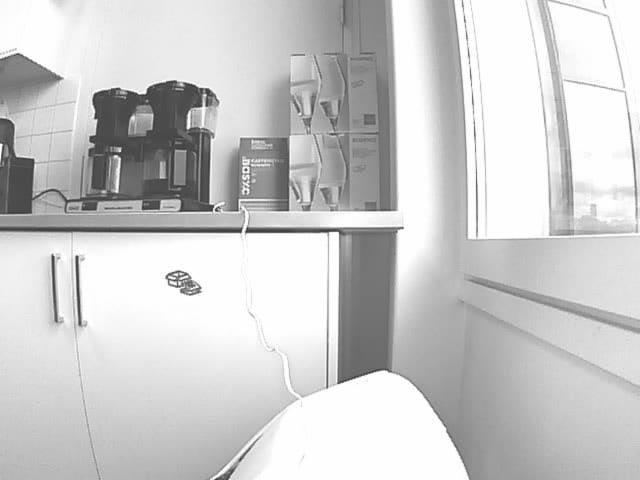not empty coffee: (143, 140, 197, 197)
